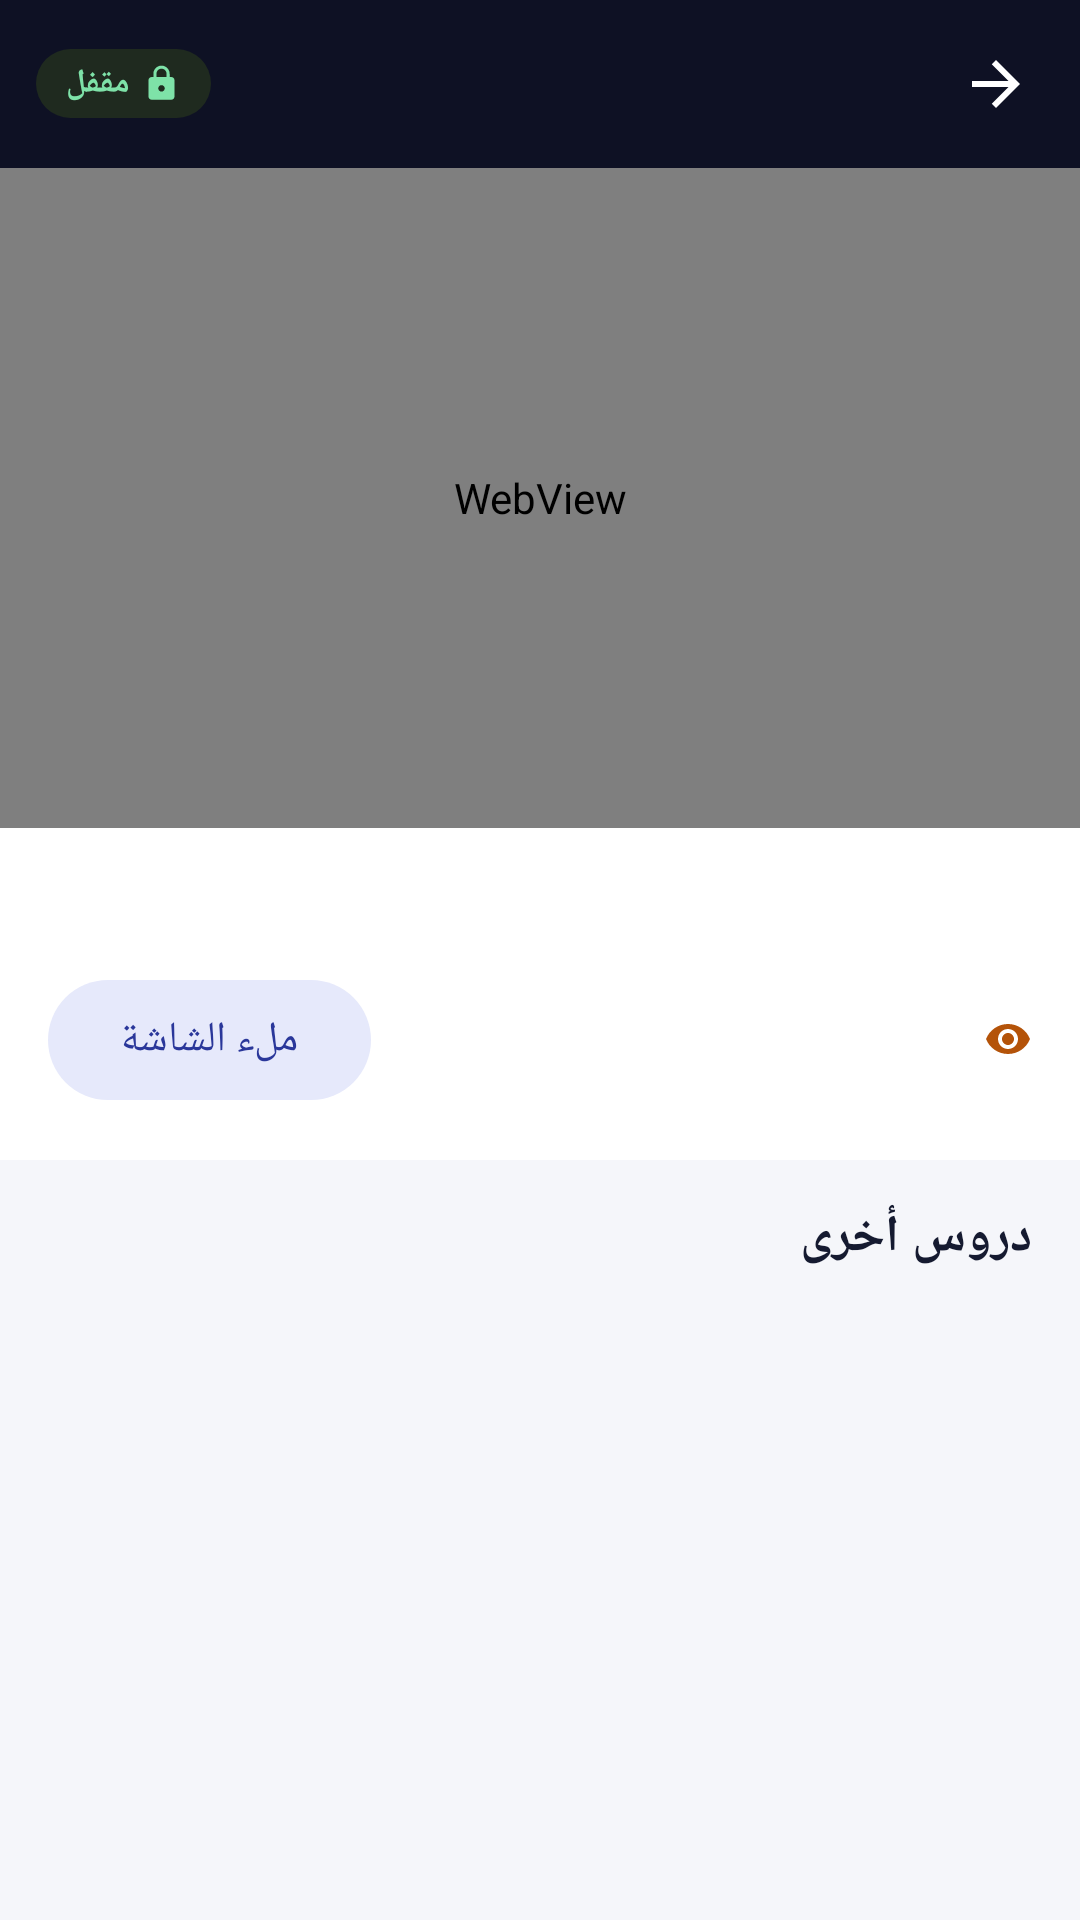

Named icons in this screenshot (1080w x 1920h) and their bounding boxes, [x1, y1, x2, y2]:
رجوع: [972, 60, 1020, 108]
